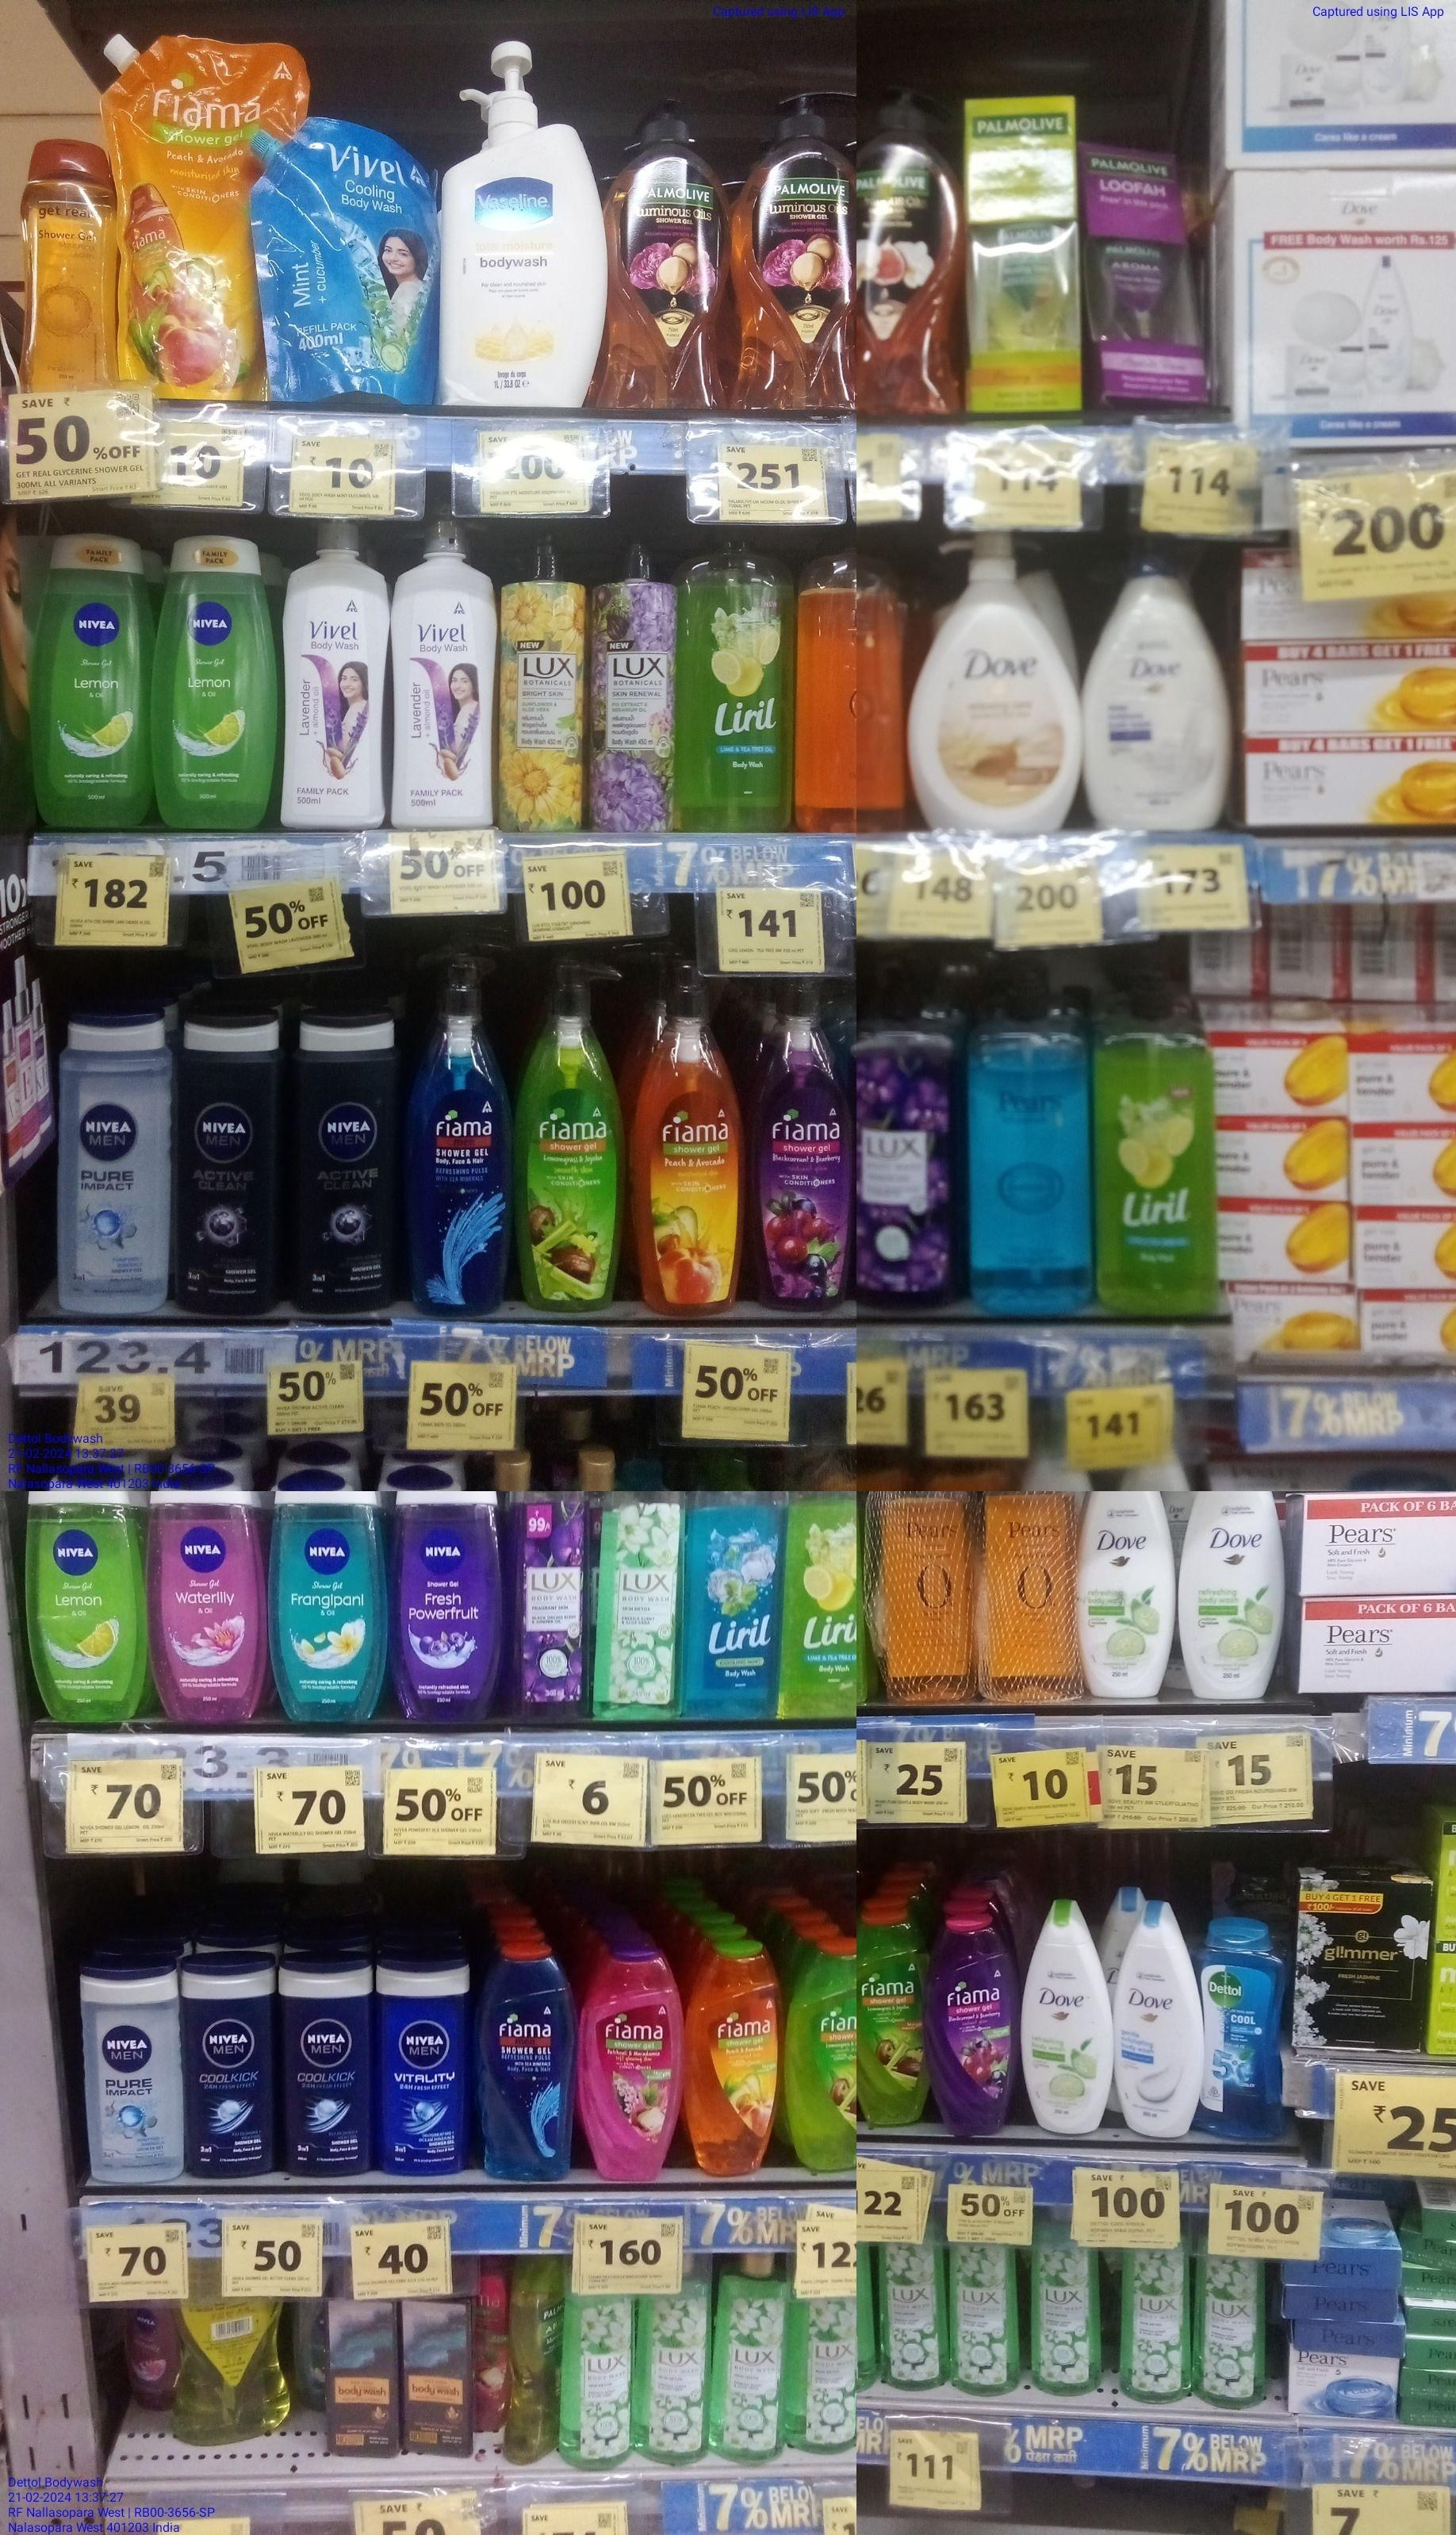Dettol_Bodywash_Cool: (1202, 1912, 1287, 2145)
Dove_Gentle_Exfoliating_Body_Wash_250ML: (1115, 1896, 1202, 2138)
Dove_Refreshing_Body_Wash_250ML: (1176, 1490, 1287, 1701), (1019, 1894, 1115, 2138), (1078, 1490, 1176, 1698)
Fiama_Shower_Gel_Lemongrass_and_Jojoba_250ML: (859, 1898, 927, 2131)
Fiama_Shower_Gel_Patchouli_and_Macadamia_250ML: (578, 1940, 684, 2182)
Fiama_Shower_Gel_Peach_and_Avocado_250ML: (684, 1938, 780, 2180)
Liril_Lime_and_Tea_Tree_Oil_Body_Wash_250ML: (1089, 977, 1216, 1316)
Lux_Black_Orchid_Scent_and_Juniper_Oil_Body_Wash_245ML: (505, 1490, 596, 1725)
Lux_Body_Wash_Skin_Detox_Freesia_Scent_and_Alove_Vera_245ML: (597, 1494, 684, 1729), (714, 2251, 785, 2457), (632, 2291, 711, 2460), (561, 2291, 634, 2469), (1118, 2246, 1193, 2406), (1028, 2242, 1102, 2397), (946, 2241, 1019, 2399), (1195, 2255, 1268, 2408), (878, 2241, 946, 2389)
Nivea_Shower_Gel_Frangipani_and_Oil_250ML: (268, 1490, 390, 1724)
Nivea_Shower_Gel_Fresh_Powerfruit_250ML: (392, 1489, 505, 1724)
Nivea_Shower_Gel_Lemon_and_Oil_250ML: (24, 524, 150, 829), (150, 528, 277, 827), (24, 1490, 145, 1724)
Nivea_Shower_Gel_Waterlily_and_Oil_250ML: (145, 1490, 265, 1720)
Pears_Pure_Glycerin_and_Mint_Extracts_Body_Wash_250ML: (961, 970, 1094, 1316)
